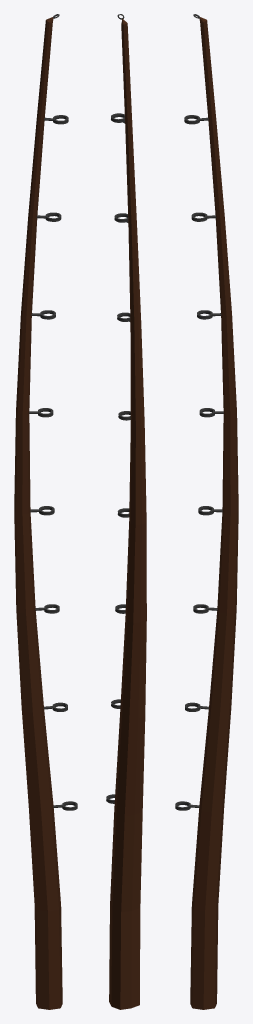
Rendered from stick_and_string.FBX.
3 views of the same model, side by side, from view 1: azimuth 90°, elevation 25°; view 2: azimuth 210°, elevation 25°; view 3: azimuth 270°, elevation 25° (orthographic).
Visible parts, largest first — view 1: stick_and_string; view 2: stick_and_string; view 3: stick_and_string.
Part boxes in pixels (x1,y1,x2,y2): stick_and_string: (14,14,77,1009); stick_and_string: (106,14,146,1009); stick_and_string: (175,14,238,1009).
Size of the model in its own units: 33.38 by 1208 by 70.37.
